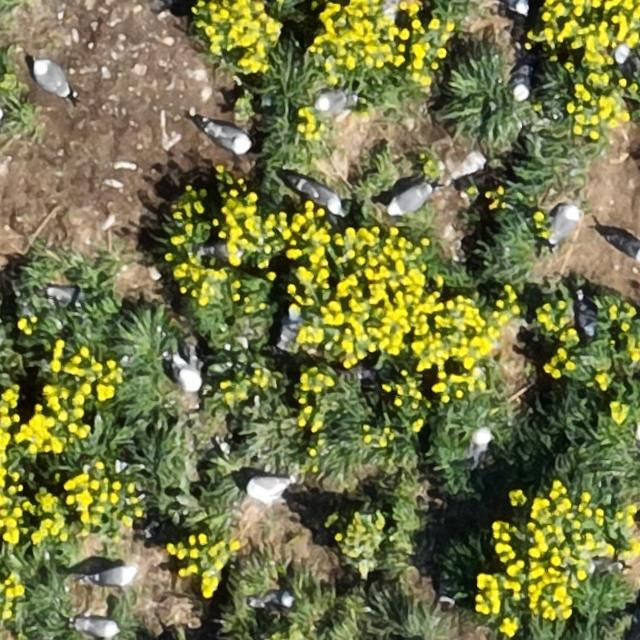umineko: (34, 61, 69, 97), (207, 124, 251, 152), (298, 182, 340, 211), (391, 185, 431, 213), (550, 206, 578, 242), (245, 477, 288, 500), (175, 356, 200, 392), (76, 617, 119, 637), (94, 567, 136, 587), (512, 63, 533, 102), (277, 314, 300, 349), (611, 234, 640, 259), (470, 428, 491, 462), (577, 298, 595, 336), (254, 590, 292, 608), (316, 91, 349, 111), (504, 0, 530, 14)
